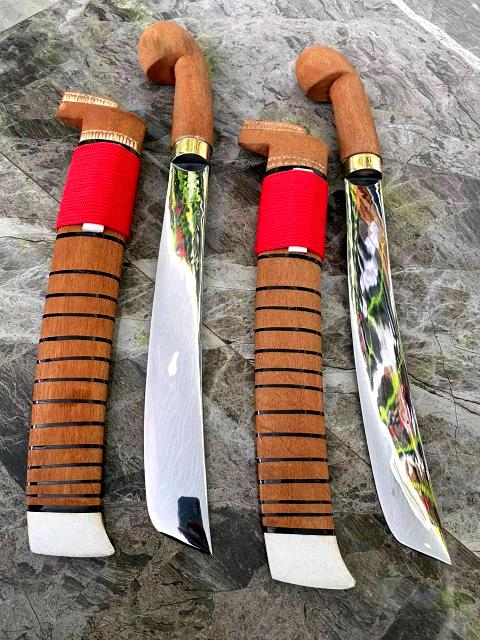long knife: (294, 46, 452, 566), (138, 21, 212, 556)
